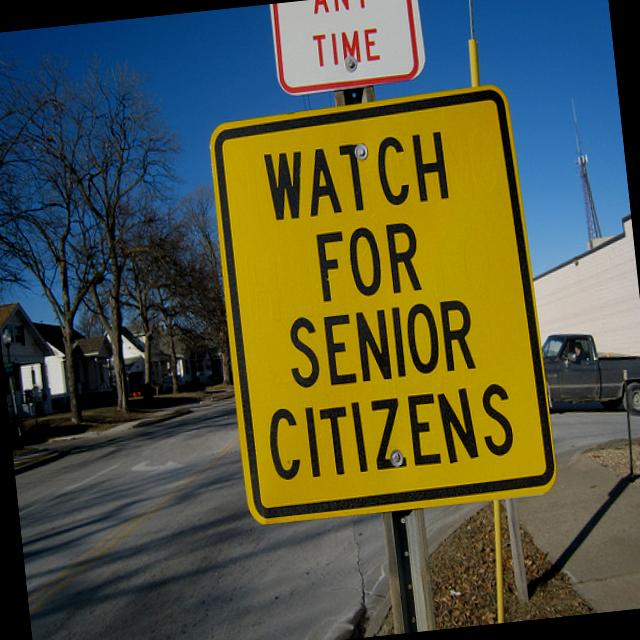Vehicle: (541, 322, 640, 428)
